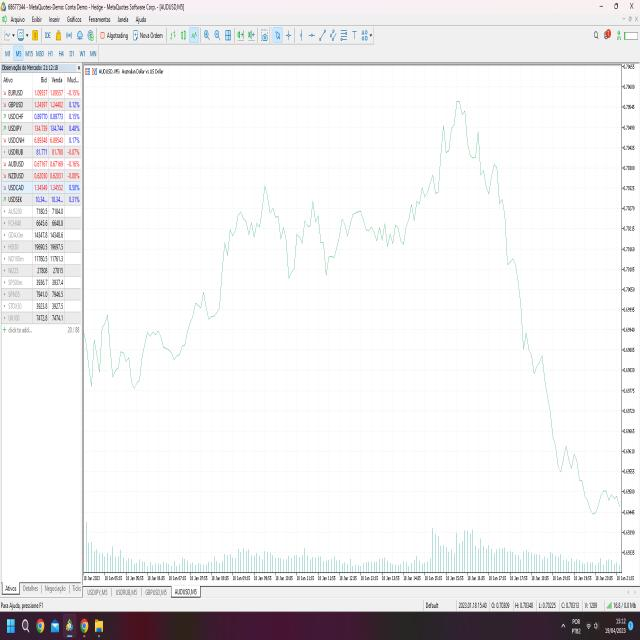fundo_duplo: (270, 154, 346, 301)
oco: (438, 78, 482, 217)
